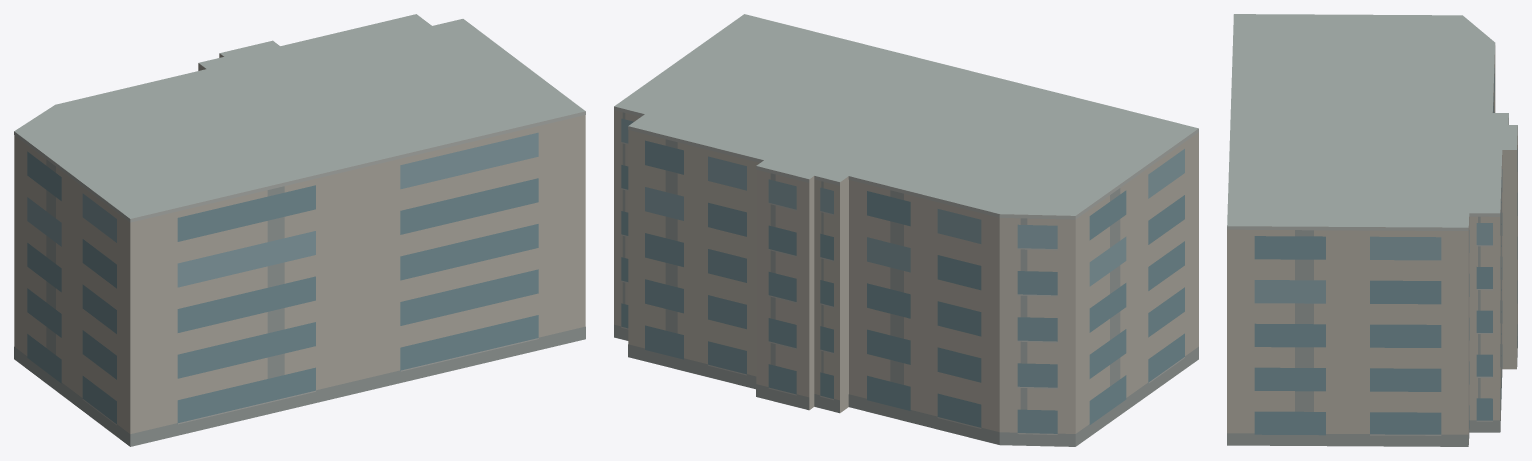
File: residential-286454be-33af-4d01-899d-44431861419d.glb
3 views of the same model, side by side, from view 1: azimuth 30°, elevation 25°; view 2: azimuth 150°, elevation 25°; view 3: azimuth 270°, elevation 25° (orthographic). The views are drawn at different scales.
Parts seen in each view (by area): view 1: residential-286454be-33af-4d01-899d-44431861419d.tmp; view 2: residential-286454be-33af-4d01-899d-44431861419d.tmp; view 3: residential-286454be-33af-4d01-899d-44431861419d.tmp.
Part boxes in pixels (x1,y1,x2,y2): residential-286454be-33af-4d01-899d-44431861419d.tmp: (14, 14, 585, 446); residential-286454be-33af-4d01-899d-44431861419d.tmp: (614, 14, 1198, 446); residential-286454be-33af-4d01-899d-44431861419d.tmp: (1227, 14, 1517, 446).
Bounding box in the file's own units: 31.87 × 15.25 × 18.34.
